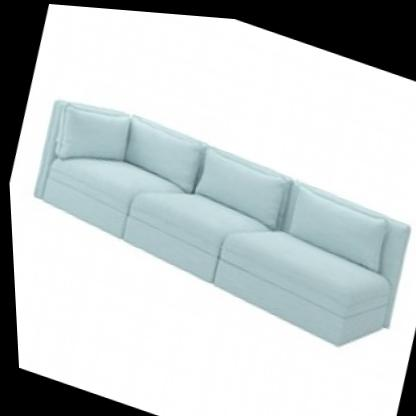Sofa: (2, 47, 416, 373)
